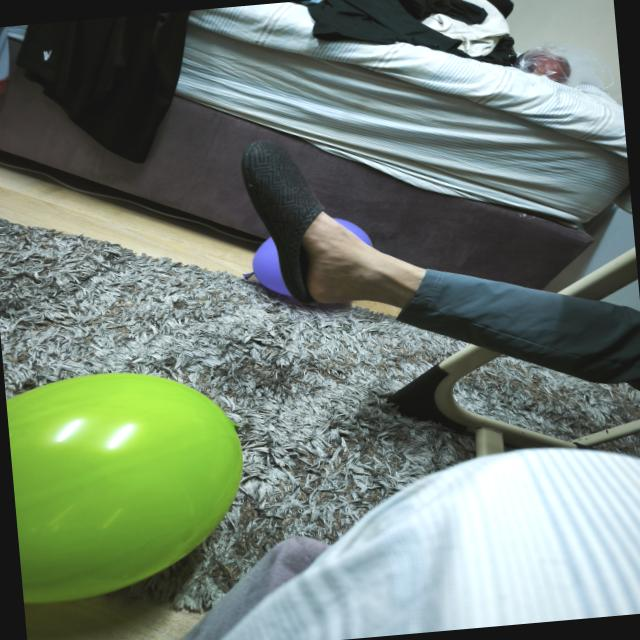balloon: (6, 373, 242, 602), (252, 237, 290, 295), (335, 218, 371, 245)
